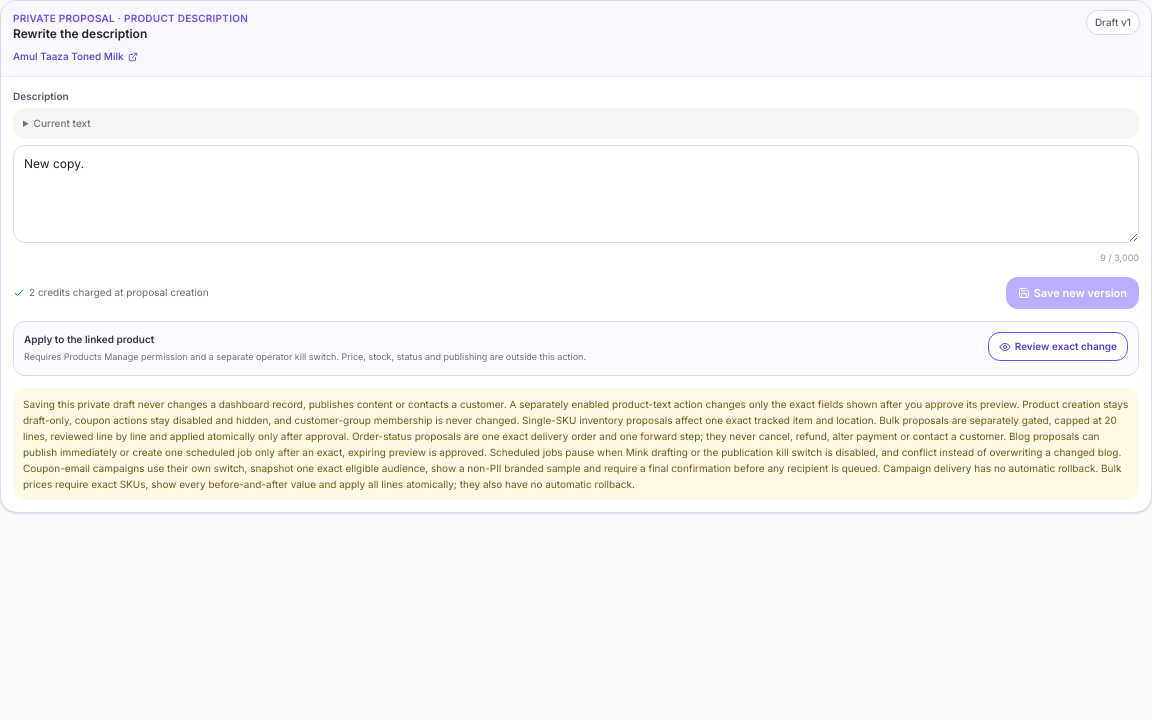
Test case: Mink proposal card · execute outcome › resolves an unknown outcome that had in fact committed
The image size is (1152, 720).
Click the button "Review exact change": (1058, 346) 988,332 -> 1128,361
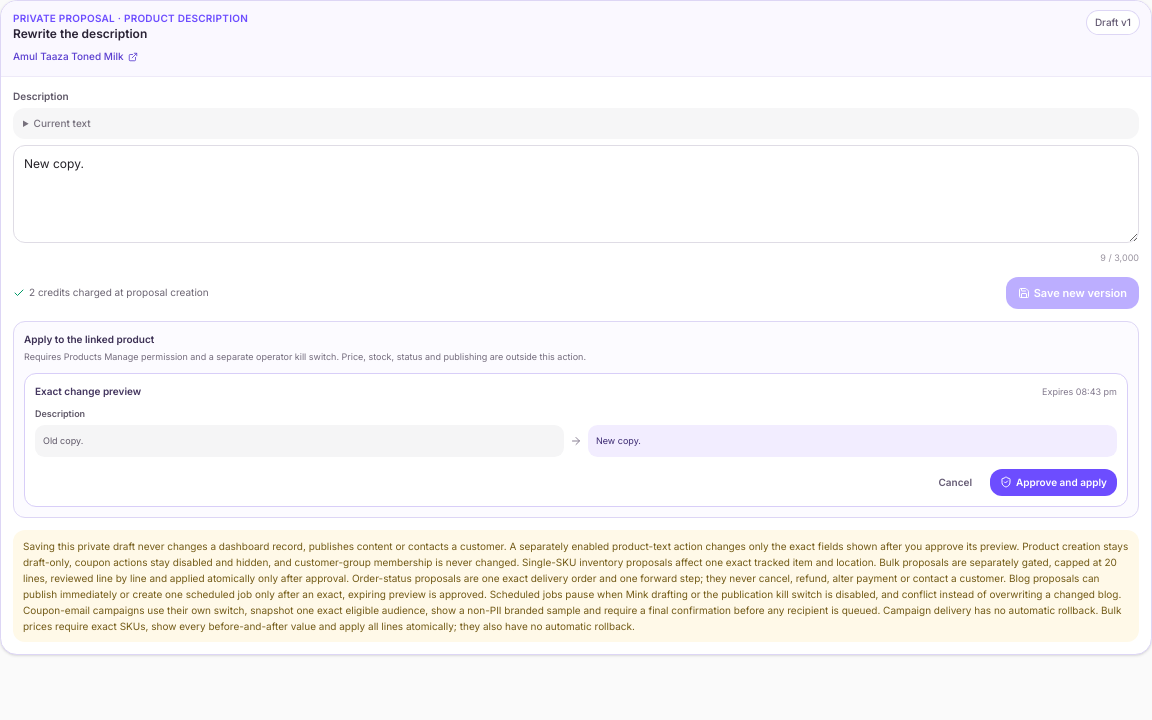
Click the button "Approve and apply": (1054, 482) 990,468 -> 1117,496
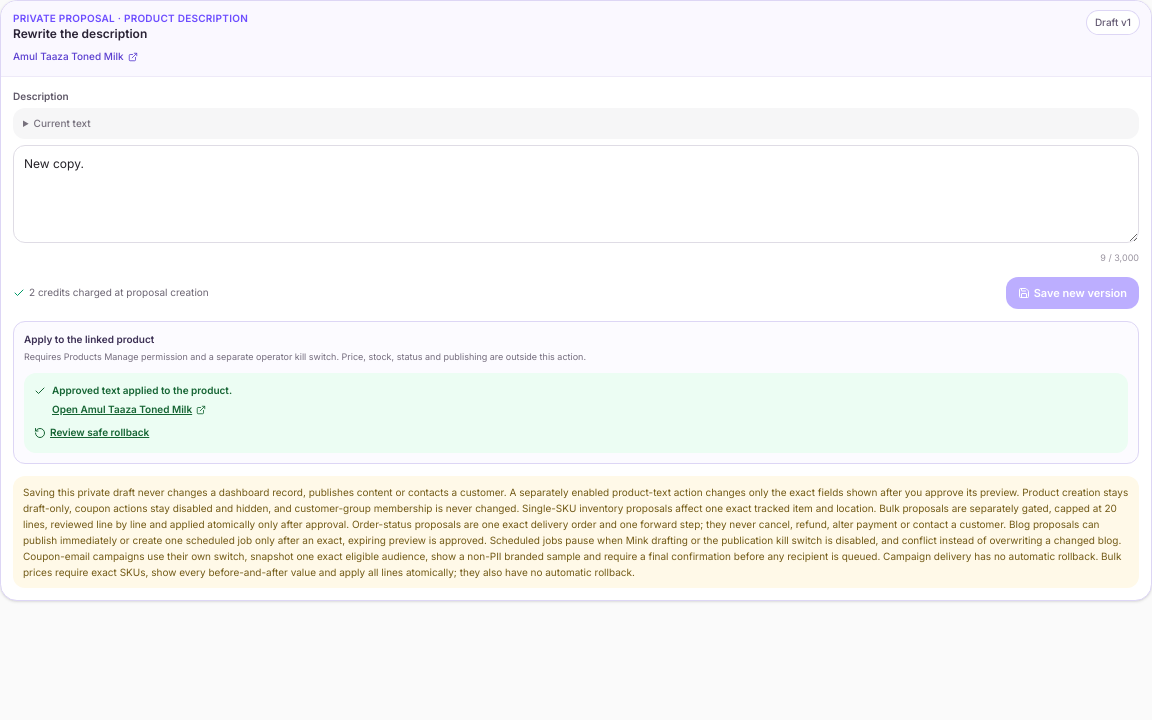
Check: the text "Approved text applied to the product." is shown, box 52,383 -> 232,398
Check: the button "Approve and apply" is gone
